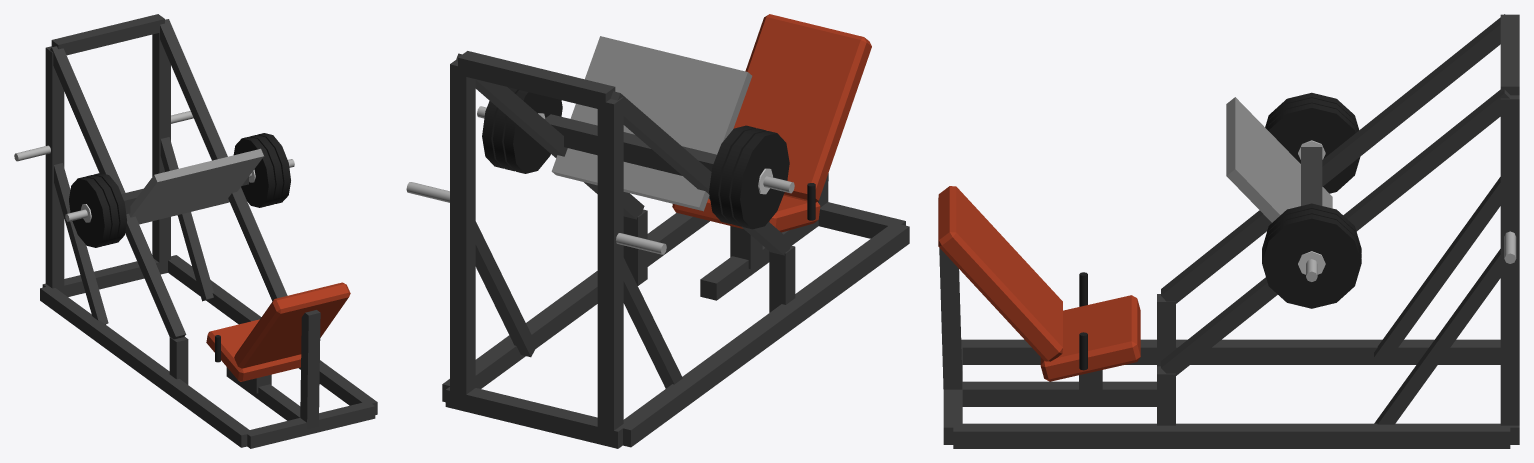
The model's file is Leg_Press.fbx.
The picture shows the model from 3 angles, left to right: view 1: azimuth 30°, elevation 25°; view 2: azimuth 150°, elevation 25°; view 3: azimuth 270°, elevation 25°; orthographic projection. The views are drawn at different scales.
Parts seen in each view (by area): view 1: Leg_Press; view 2: Leg_Press; view 3: Leg_Press.
Part boxes in pixels (<box>): Leg_Press: <box>14,14,377,448</box>; Leg_Press: <box>406,14,909,448</box>; Leg_Press: <box>938,14,1519,448</box>.
Size of the model in its own units: 152 by 164 by 245.
